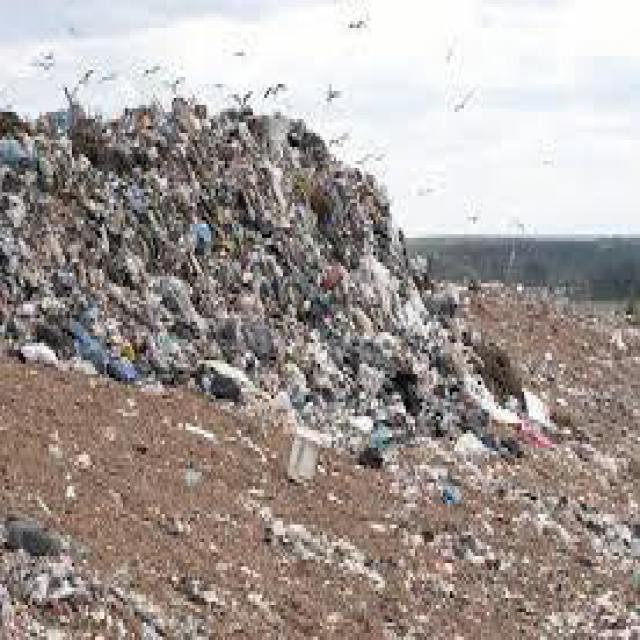garbage: (2, 105, 404, 402), (404, 266, 492, 434), (0, 524, 105, 637)
